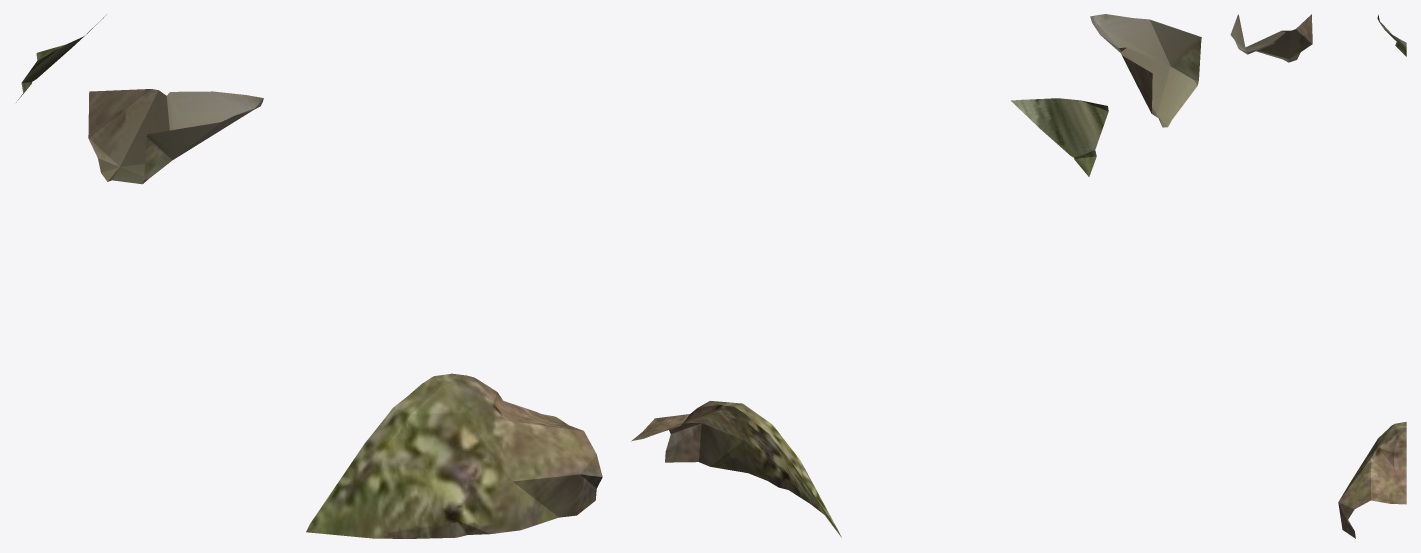
The picture shows the model from 3 angles, left to right: view 1: azimuth 30°, elevation 25°; view 2: azimuth 150°, elevation 25°; view 3: azimuth 270°, elevation 25°; orthographic projection. The views are drawn at different scales.
Size of the model in its own units: 2.95 by 2.95 by 1.31.
1 material, 1 textured.
